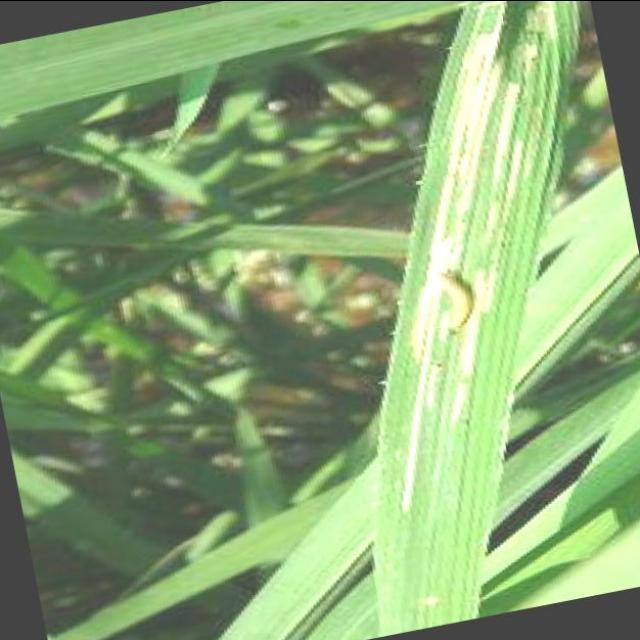leaf folder: (439, 272, 472, 331)
